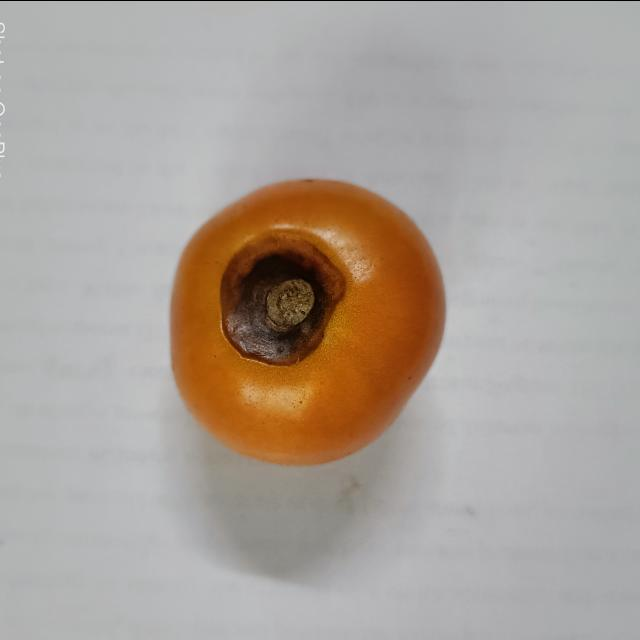Anthrocnose: (220, 230, 350, 360)
